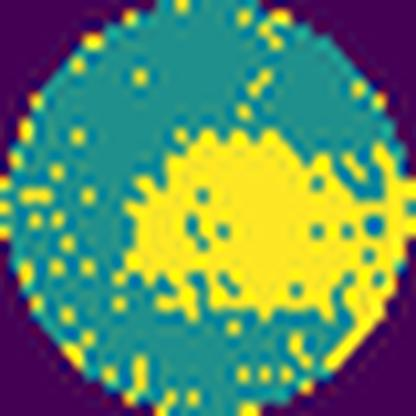Loc: (116, 126, 413, 367)
